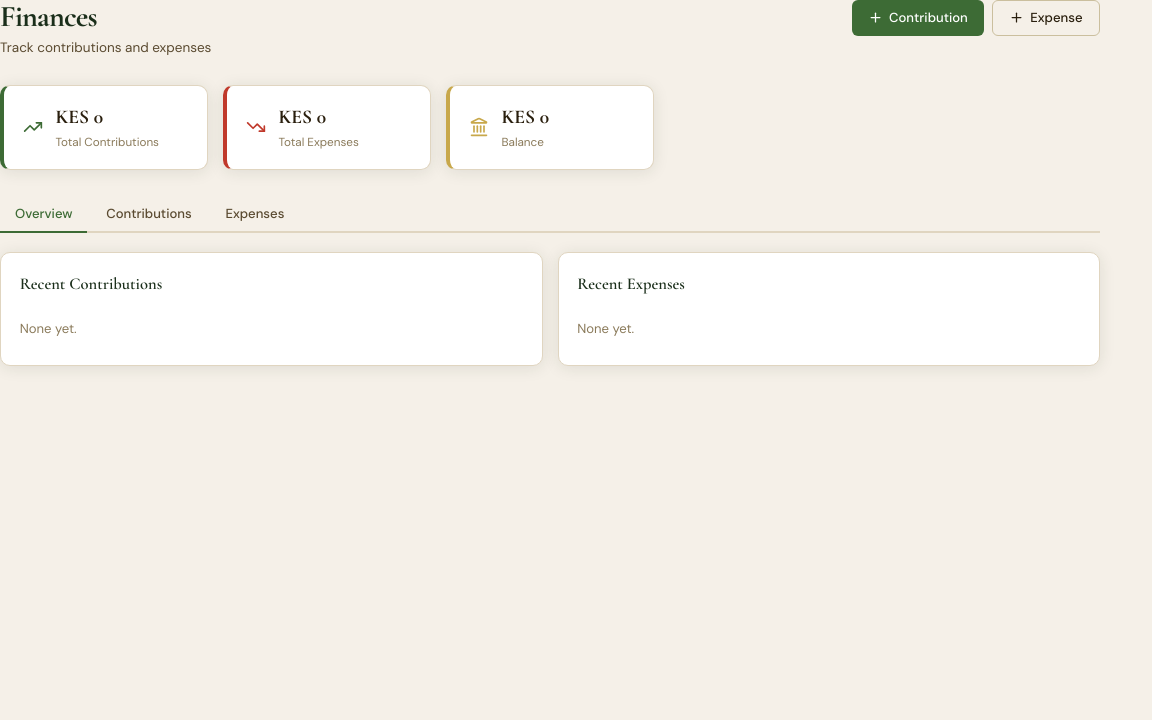
Test: FinancesPage — admin view › opens contribution modal
The width and height of the screenshot is (1152, 720).
Step 1. Click the button with test id "add-contribution-btn" → (918, 18), box top-left (852, 0), bottom-right (984, 36)
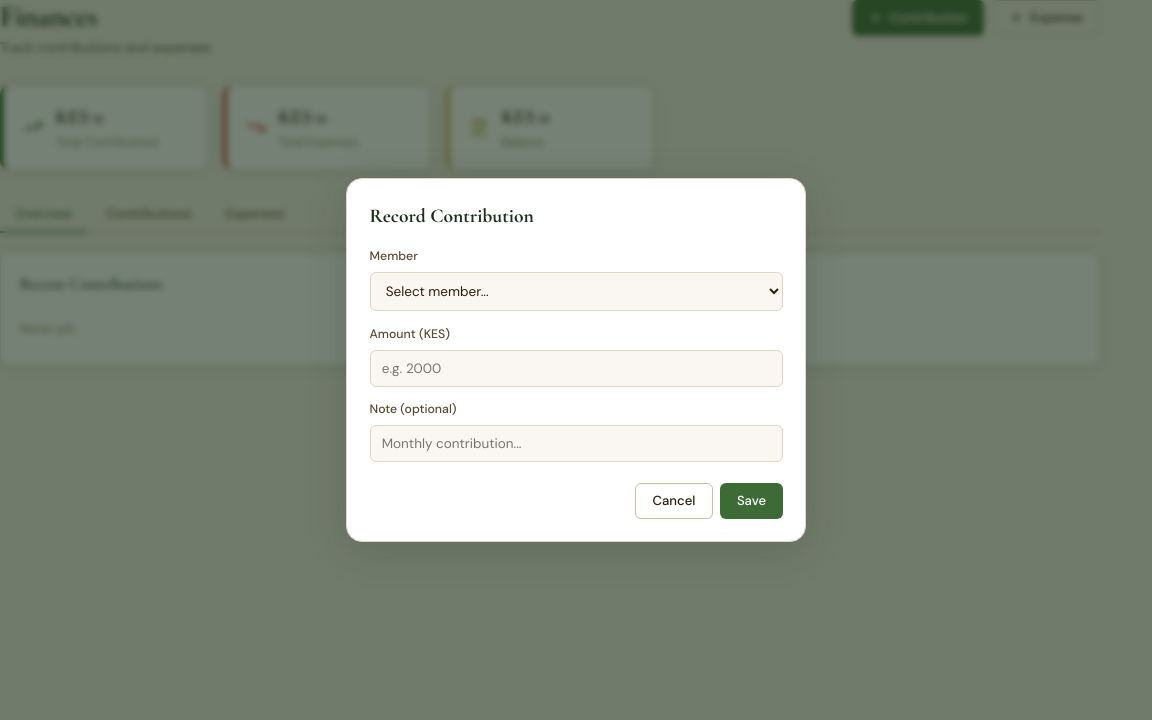
Check: the number field with test id "contribution-amount" is shown, box top-left (370, 350), bottom-right (782, 387)
